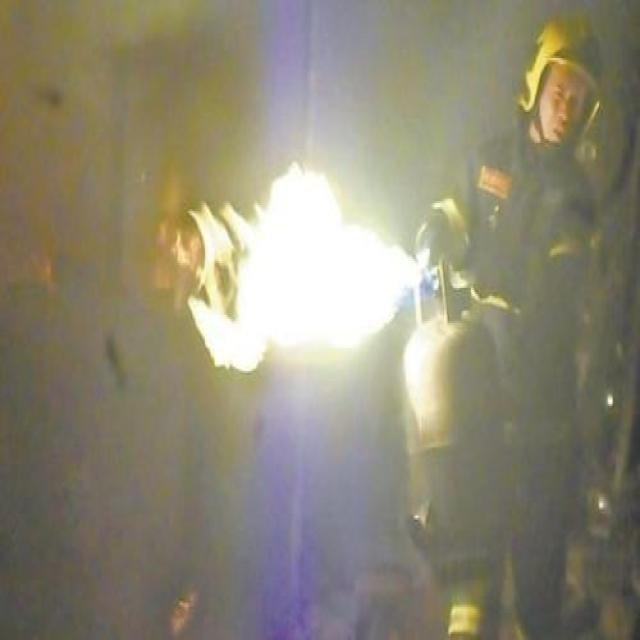fire: (167, 150, 434, 378), (166, 577, 195, 630)
other: (498, 7, 618, 150), (430, 572, 489, 632), (448, 266, 514, 316), (468, 140, 520, 202), (428, 179, 472, 240), (542, 227, 604, 261)
